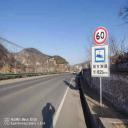speed_limit_60: (93, 26, 108, 45)
